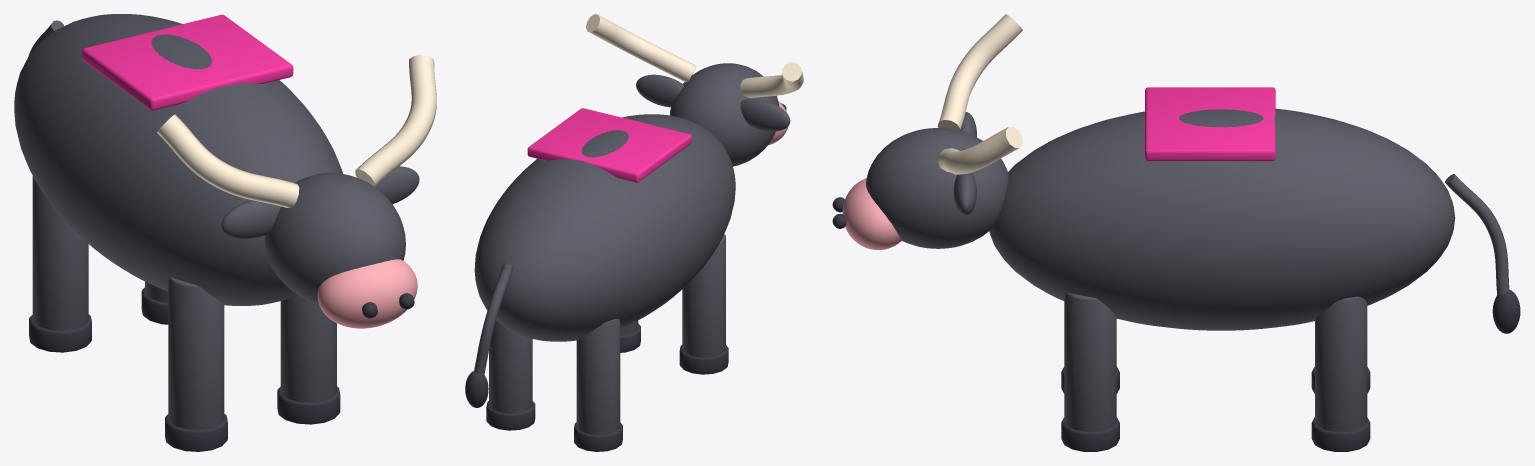
The model's file is kerbau.glb.
3 renders of one model, left to right at view 1: azimuth 30°, elevation 25°; view 2: azimuth 150°, elevation 25°; view 3: azimuth 270°, elevation 25°, orthographic. The views are drawn at different scales.
Parts seen in each view (by area): view 1: Sphere, Sphere.001, Cube, Cylinder, Cylinder.004, Cylinder.002, Sphere.002, tube, tube.001, Sphere.011, Cylinder.003, Cylinder.005 (+3 smaller); view 2: Sphere, Cube, Sphere.001, Cylinder.004, Cylinder, Cylinder.006, tube.001, tube, tube.002, Sphere.011, Sphere.012, Cylinder.007 (+4 smaller); view 3: Sphere, Sphere.001, Cube, Cylinder.002, Cylinder.006, tube, Sphere.002, tube.001, tube.002, Cylinder.007, Cylinder.003, Sphere.013 (+1 smaller).
Boxes of the visible parts, <box> form: Sphere: <box>14,14,342,305</box>; Sphere.001: <box>264,173,405,304</box>; Cube: <box>82,14,293,110</box>; Cylinder: <box>168,277,224,429</box>; Cylinder.004: <box>32,176,88,330</box>; Cylinder.002: <box>280,294,336,402</box>; Sphere.002: <box>317,259,417,328</box>; tube: <box>157,114,299,207</box>; tube.001: <box>355,55,436,186</box>; Sphere.011: <box>221,200,280,238</box>; Cylinder.003: <box>277,386,340,424</box>; Cylinder.005: <box>29,314,91,352</box>; Sphere: <box>474,114,735,341</box>; Cube: <box>527,108,691,182</box>; Sphere.001: <box>670,63,779,166</box>; Cylinder.004: <box>576,318,620,434</box>; Cylinder: <box>682,234,725,357</box>; Cylinder.006: <box>489,321,532,413</box>; tube.001: <box>586,14,696,82</box>; tube: <box>740,62,803,97</box>; tube.002: <box>474,263,513,374</box>; Sphere.011: <box>740,99,790,131</box>; Sphere.012: <box>636,74,683,107</box>; Cylinder.007: <box>486,401,535,430</box>; Sphere: <box>989,108,1455,330</box>; Sphere.001: <box>866,128,1008,248</box>; Cube: <box>1145,87,1275,161</box>; Cylinder.002: <box>1064,293,1116,431</box>; Cylinder.006: <box>1315,296,1367,431</box>; tube: <box>937,14,1022,130</box>; Sphere.002: <box>842,178,901,249</box>; tube.001: <box>937,126,1022,174</box>; tube.002: <box>1445,174,1509,295</box>; Cylinder.007: <box>1311,417,1370,451</box>; Cylinder.003: <box>1061,417,1119,451</box>; Sphere.013: <box>1492,289,1520,333</box>.
Bounding box in the file's own units: 2.7 × 3.49 × 6.32.
